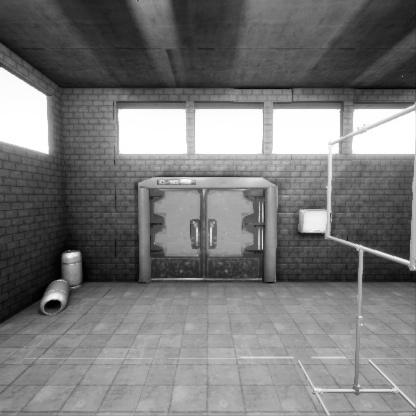gate: (326, 153, 416, 324)
